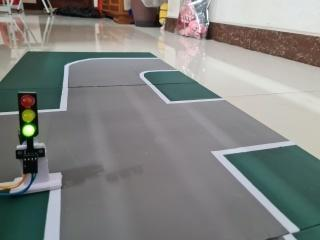green: (11, 89, 43, 143)
